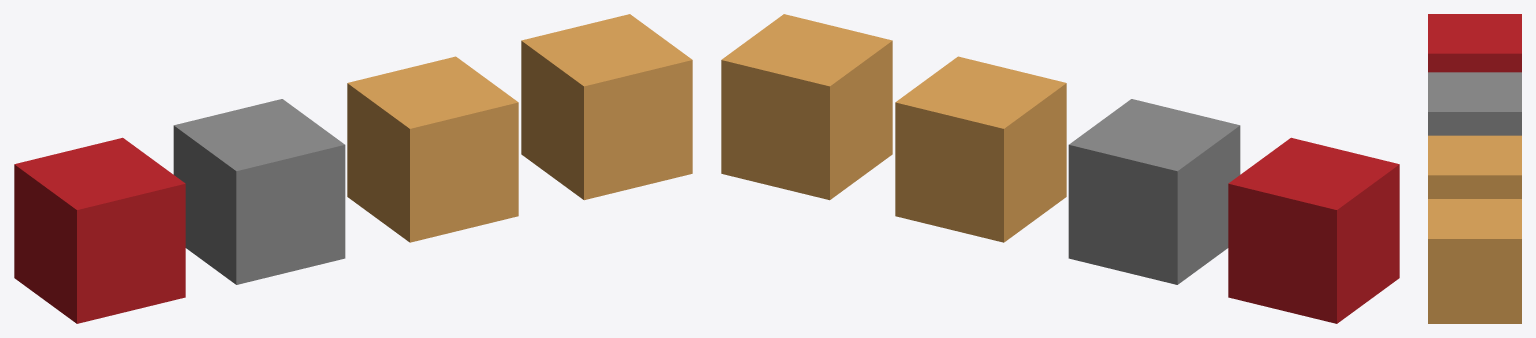
Rendered from particles.fbx.
3 views of the same model, side by side, from view 1: azimuth 30°, elevation 25°; view 2: azimuth 150°, elevation 25°; view 3: azimuth 270°, elevation 25° (orthographic). The views are drawn at different scales.
Visible parts, largest first — view 1: Ember Material, Fire Material, Bottom Material, Smoke Material; view 2: Ember Material, Fire Material, Bottom Material, Smoke Material; view 3: Fire Material, Bottom Material, Smoke Material, Ember Material.
Part boxes in pixels (left/top/right/bottom): Ember Material: left=14, top=137, right=185, bottom=323; Fire Material: left=521, top=14, right=692, bottom=200; Bottom Material: left=347, top=56, right=518, bottom=242; Smoke Material: left=173, top=99, right=345, bottom=284; Ember Material: left=1228, top=137, right=1399, bottom=323; Fire Material: left=721, top=14, right=892, bottom=200; Bottom Material: left=895, top=56, right=1066, bottom=242; Smoke Material: left=1068, top=99, right=1240, bottom=284; Fire Material: left=1428, top=199, right=1521, bottom=323; Bottom Material: left=1428, top=135, right=1521, bottom=198; Smoke Material: left=1428, top=72, right=1521, bottom=135; Ember Material: left=1428, top=14, right=1521, bottom=72.
Bounding box in the file's own units: 8.73 × 49.46 × 8.73.
